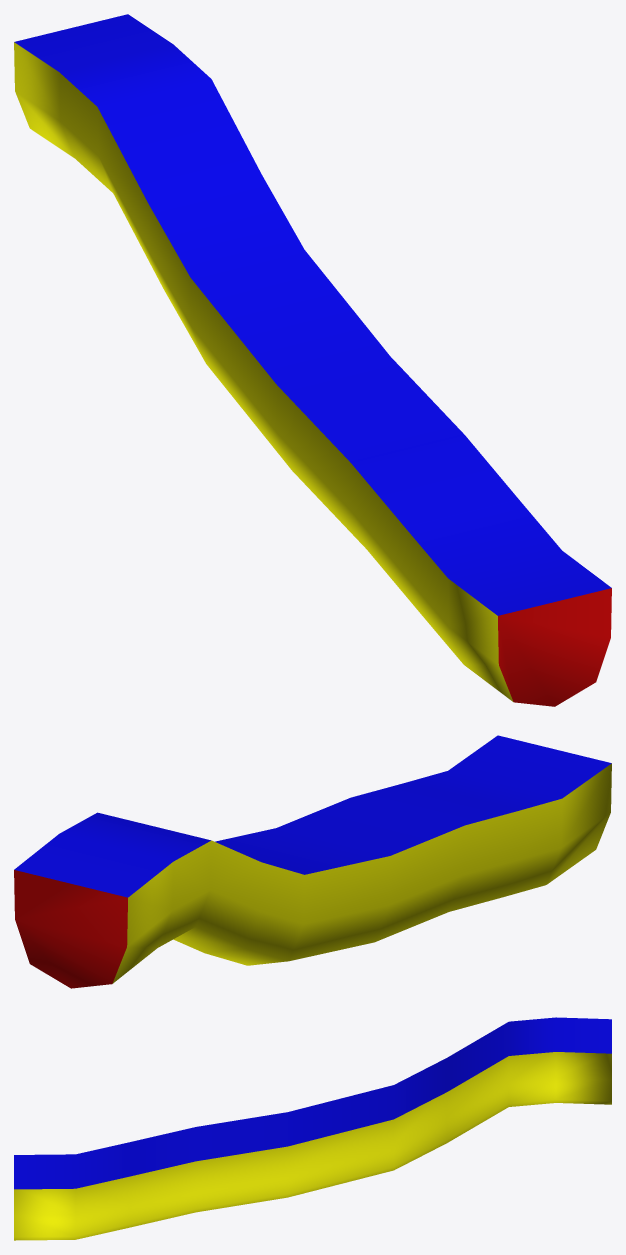
3 views of the same model, one above another, from view 1: azimuth 30°, elevation 25°; view 2: azimuth 150°, elevation 25°; view 3: azimuth 270°, elevation 25° (orthographic). The views are drawn at different scales.
Parts seen in each view (by area): view 1: polySurface140; view 2: polySurface140; view 3: polySurface140.
Part boxes in pixels (x1,y1,x2,y2): polySurface140: (14, 14, 611, 706); polySurface140: (14, 735, 611, 988); polySurface140: (14, 1017, 611, 1240).
Size of the model in its own units: 23.58 by 64.65 by 173.
